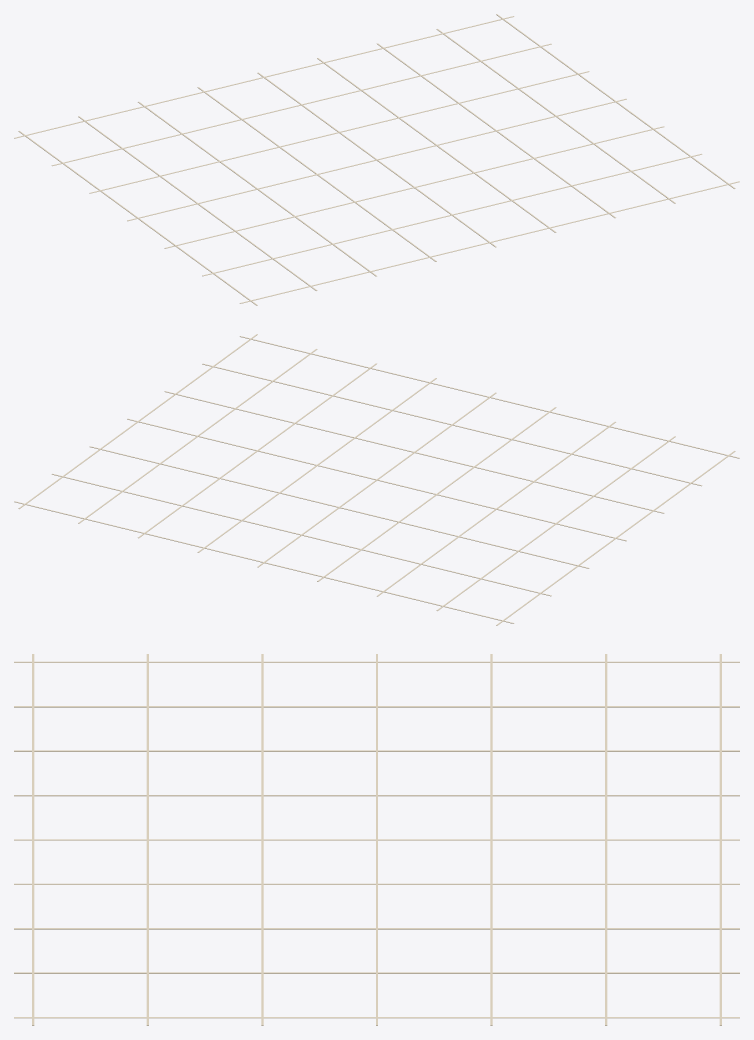
3 renders of one model, top to bottom at view 1: azimuth 30°, elevation 25°; view 2: azimuth 150°, elevation 25°; view 3: azimuth 270°, elevation 25°, orthographic. The views are drawn at different scales.
Parts seen in each view (by area): view 1: Grout Y.001, Grout Y.002, Grout Y, Grout Y.003, Grout Y.004, Grout Y.005, Grout Y.006, Grout X.004, Grout X.002, Grout X, Grout X.003, Grout X.007 (+4 smaller); view 2: Grout Y.005, Grout Y.002, Grout Y.004, Grout Y.003, Grout Y.001, Grout Y.006, Grout Y, Grout X.002, Grout X, Grout X.003, Grout X.007, Grout X.004 (+4 smaller); view 3: Grout X.002, Grout X, Grout X.007, Grout X.005, Grout X.004, Grout X.001, Grout X.006, Grout X.003, Grout X.008, Grout Y.002, Grout Y, Grout Y.004 (+4 smaller).
Boxes of the visible parts, x1,y1,x2,y2 form: Grout Y.001: (202,153,702,276); Grout Y.002: (164,126,664,248); Grout Y: (239,181,739,303); Grout Y.003: (127,98,626,221); Grout Y.004: (89,71,589,193); Grout Y.005: (51,43,551,166); Grout Y.006: (14,16,514,138); Grout X.004: (257,72,496,247); Grout X.002: (138,101,376,276); Grout X: (18,131,257,305); Grout X.003: (197,87,436,261); Grout X.007: (436,29,675,203); Grout Y.005: (51,473,551,596); Grout Y.002: (164,391,664,513); Grout Y.004: (89,446,589,568); Grout Y.003: (127,418,626,541); Grout Y.001: (202,363,702,486); Grout Y.006: (14,501,514,623); Grout Y: (239,336,739,458); Grout X.002: (377,421,615,596); Grout X: (496,451,735,625); Grout X.003: (317,407,556,581); Grout X.007: (78,349,317,523); Grout X.004: (257,392,496,567); Grout X.002: (14,750,739,751); Grout X: (14,661,739,662); Grout X.007: (14,972,739,973); Grout X.005: (14,883,739,884); Grout X.004: (14,839,739,840); Grout X.001: (14,706,739,707); Grout X.006: (14,928,739,929); Grout X.003: (14,795,739,796); Grout X.008: (14,1017,739,1018); Grout Y.002: (261,654,263,1025); Grout Y: (32,654,34,1025); Grout Y.004: (490,654,492,1025).
Bounding box in the file's own units: 4.6 × 0.003 × 3.8.
Materials: 1 (1 with a texture image).
